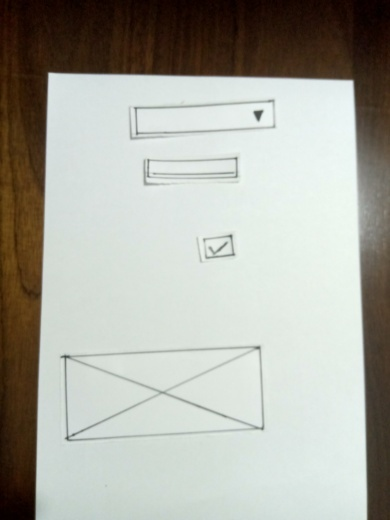checkbox: (193, 238, 239, 258)
dropdown: (128, 105, 277, 135)
img: (64, 344, 261, 441)
text: (141, 159, 240, 179)
